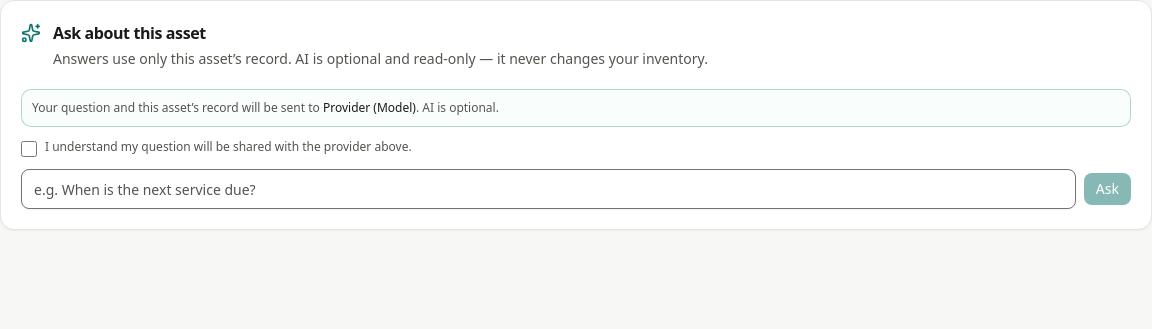
Scenario: AiChatCard AG-UI streaming › renders a safe error and stays usable when the provider fails mid-run
Click the checkbox at x=29, y=149, box x1=21 y1=141 x2=37 y2=157
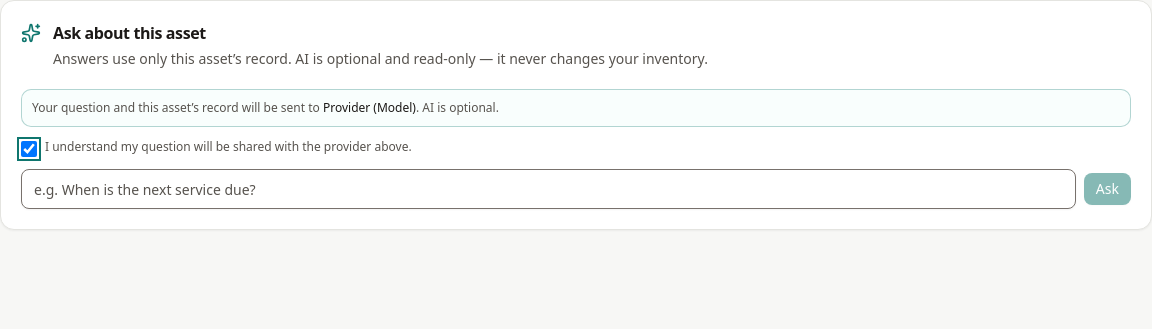
Type "What is the status?" into the field named "Question about this asset" at x=548, y=189, box x1=21 y1=169 x2=1076 y2=209
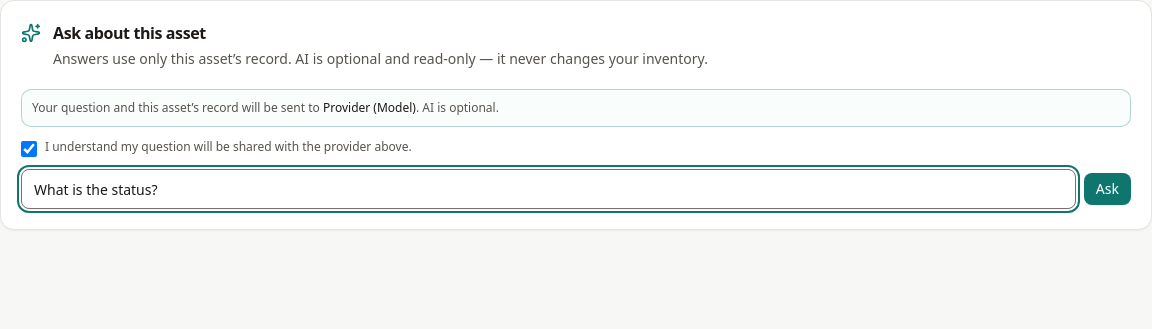
Click the button "Ask" at x=1107, y=189, box x1=1084 y1=173 x2=1131 y2=205
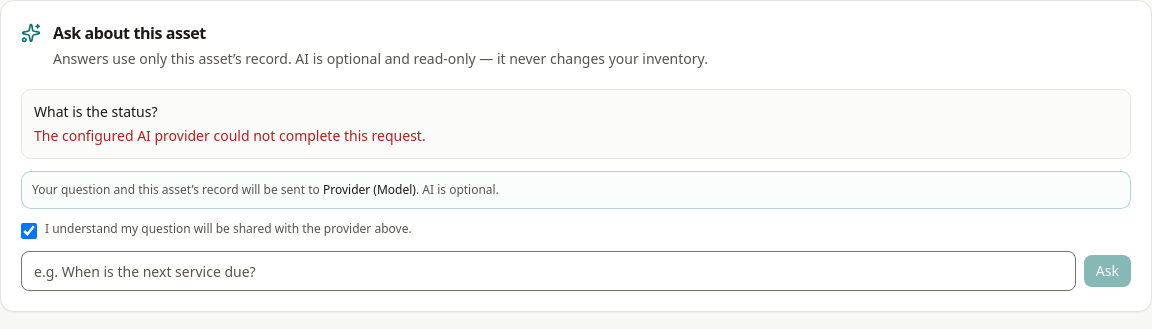
Expected: the text "The configured AI provider could not complete this request." is shown, x1=34 y1=126 x2=426 y2=145
Type "Try again" into the field named "Question about this asset" at x=548, y=271, box x1=21 y1=251 x2=1076 y2=291
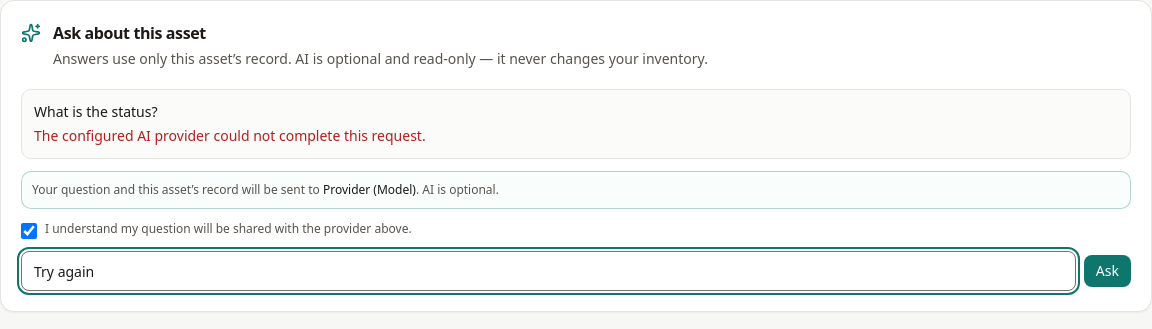
Expected: the button "Ask" is enabled, x1=1084 y1=255 x2=1131 y2=287
